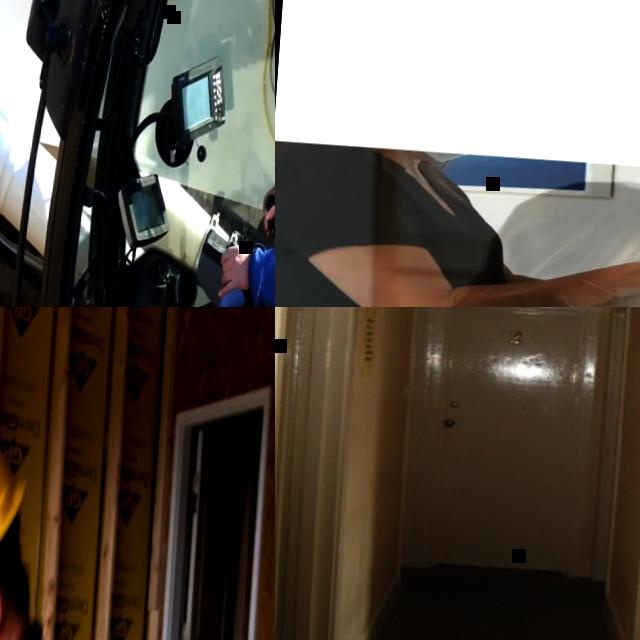Mask: (423, 148, 469, 165)
NO-Hardhat: (523, 178, 640, 252)
NO-Safety Vest: (275, 146, 531, 307)
Person: (275, 140, 539, 307), (0, 410, 174, 640), (409, 172, 640, 307), (194, 0, 275, 307)
machinery: (0, 0, 275, 307)
